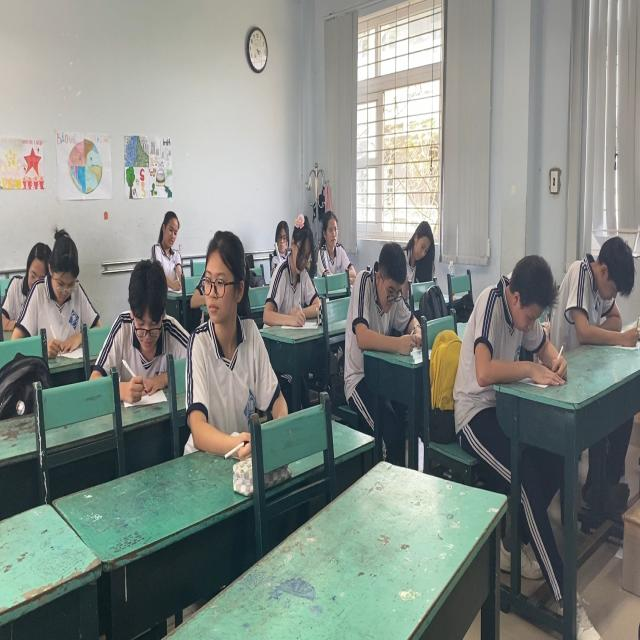cheating: (185, 229, 262, 427)
not_cheating: (105, 244, 198, 416), (460, 240, 560, 388), (17, 229, 95, 347), (556, 223, 637, 330), (270, 216, 321, 327), (352, 243, 404, 344), (149, 206, 198, 296), (313, 206, 349, 274), (405, 223, 441, 278)
